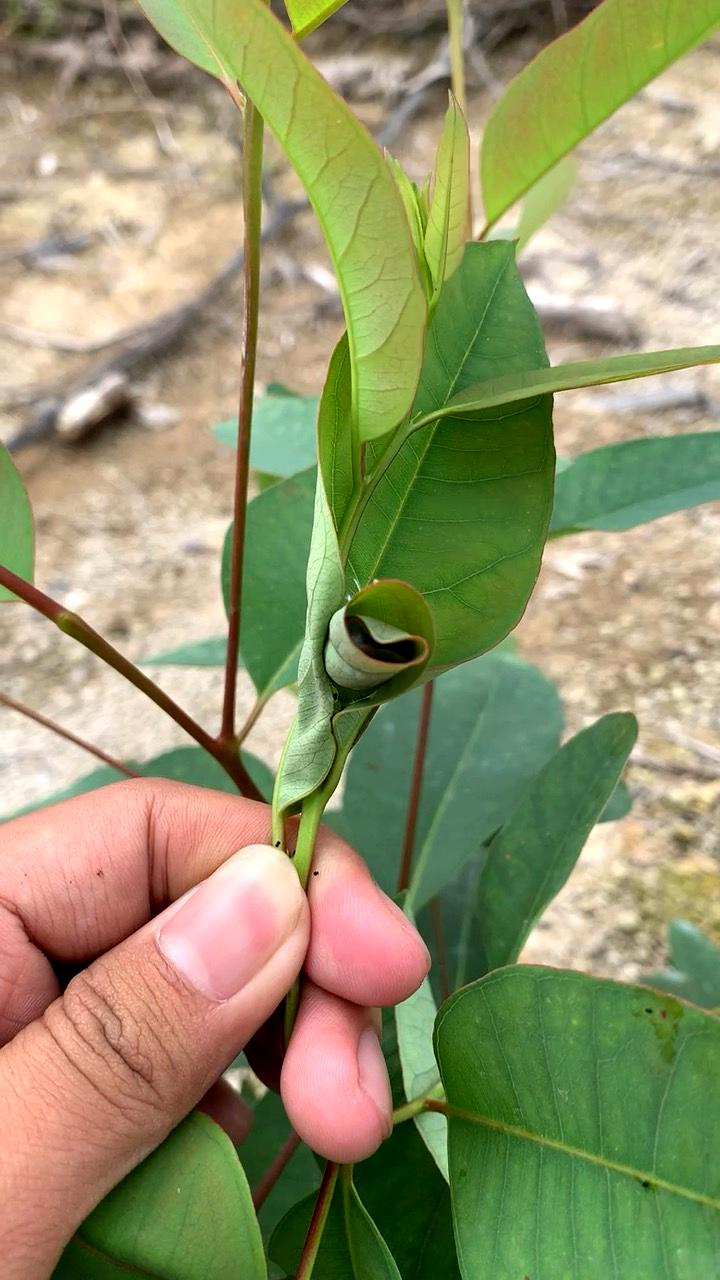Leaf Roller - Leaf: (249, 551, 505, 730)
